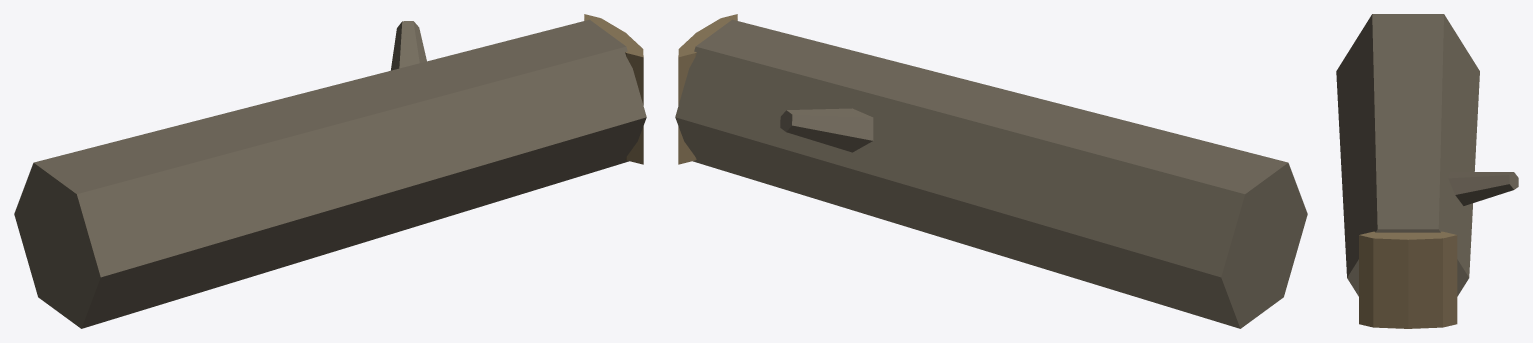
File: coast-driftwood.glb
3 renders of one model, left to right at view 1: azimuth 30°, elevation 25°; view 2: azimuth 150°, elevation 25°; view 3: azimuth 270°, elevation 25°, orthographic. The views are drawn at different scales.
Visible parts, largest first — view 1: coast-driftwood; view 2: coast-driftwood; view 3: coast-driftwood.
Boxes of the visible parts, x1,y1,x2,y2 form: coast-driftwood: [14, 14, 646, 328]; coast-driftwood: [675, 14, 1307, 328]; coast-driftwood: [1336, 14, 1518, 328].
Size of the model in its own units: 1.45 by 0.3546 by 0.4822.
